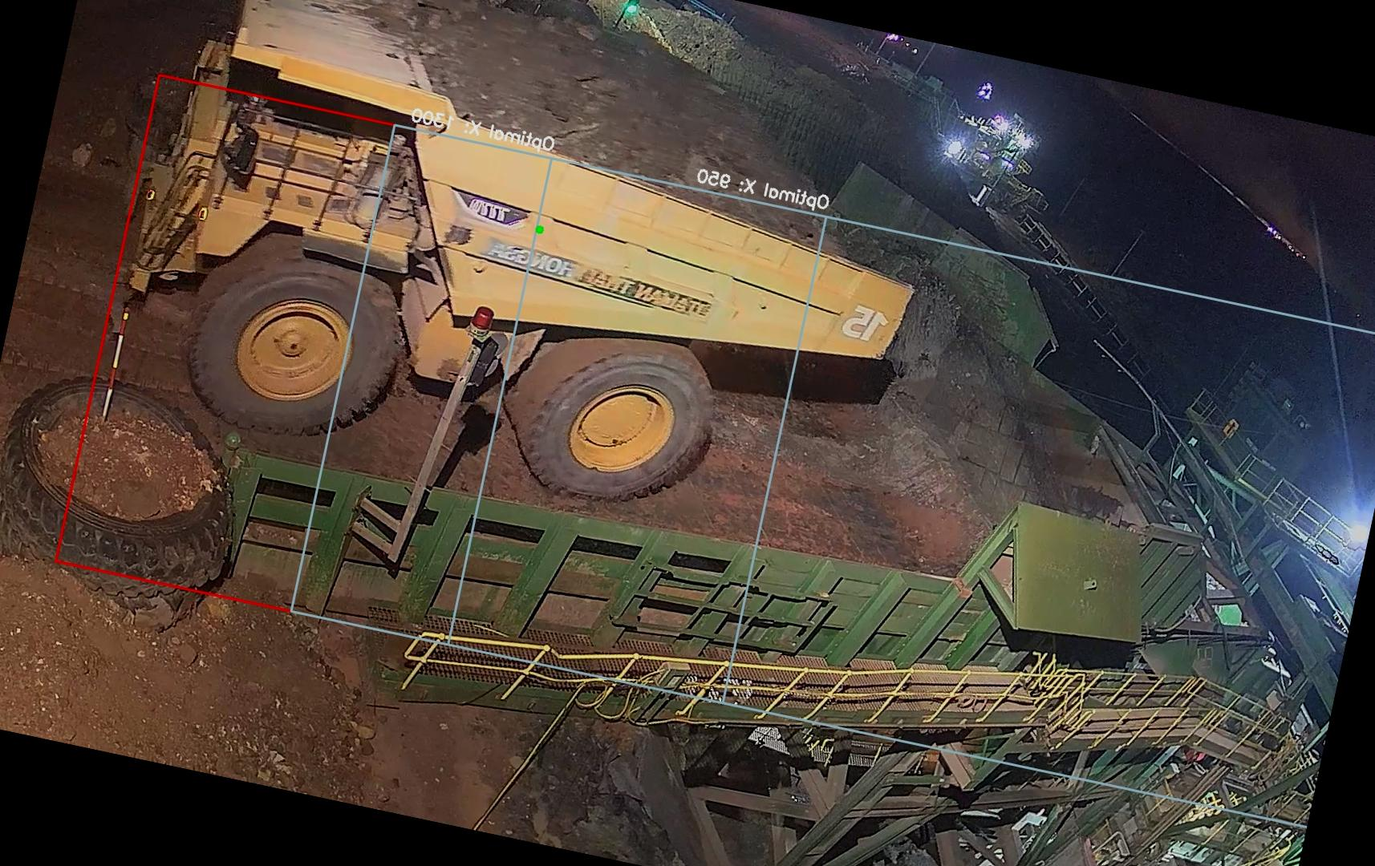company: (470, 222, 729, 333)
full_load: (373, 0, 869, 250)
mining_truck: (83, 0, 974, 568)
tail_number: (833, 294, 898, 355)
truck_size: (459, 187, 522, 236)
